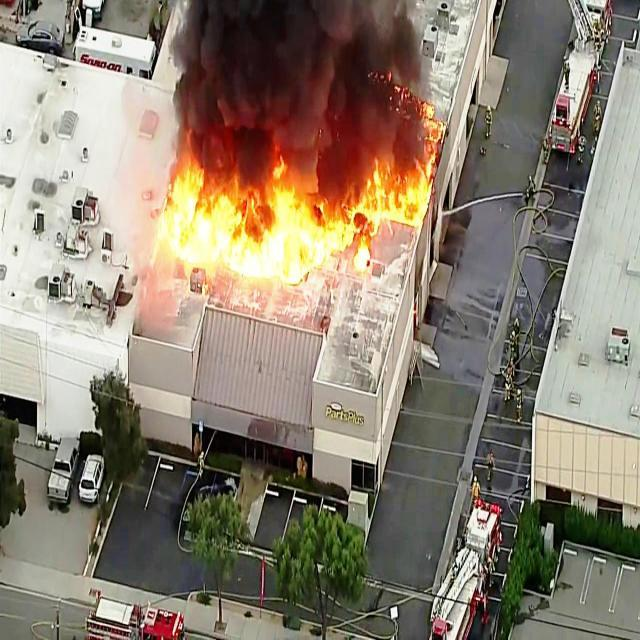Fire: (316, 158, 406, 264), (224, 188, 318, 278), (169, 160, 229, 272)
Smoke: (224, 0, 385, 149)
